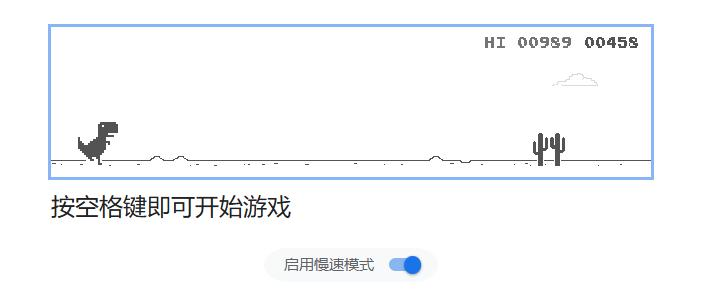cactus: (531, 132, 566, 167)
dino: (75, 120, 119, 166)
